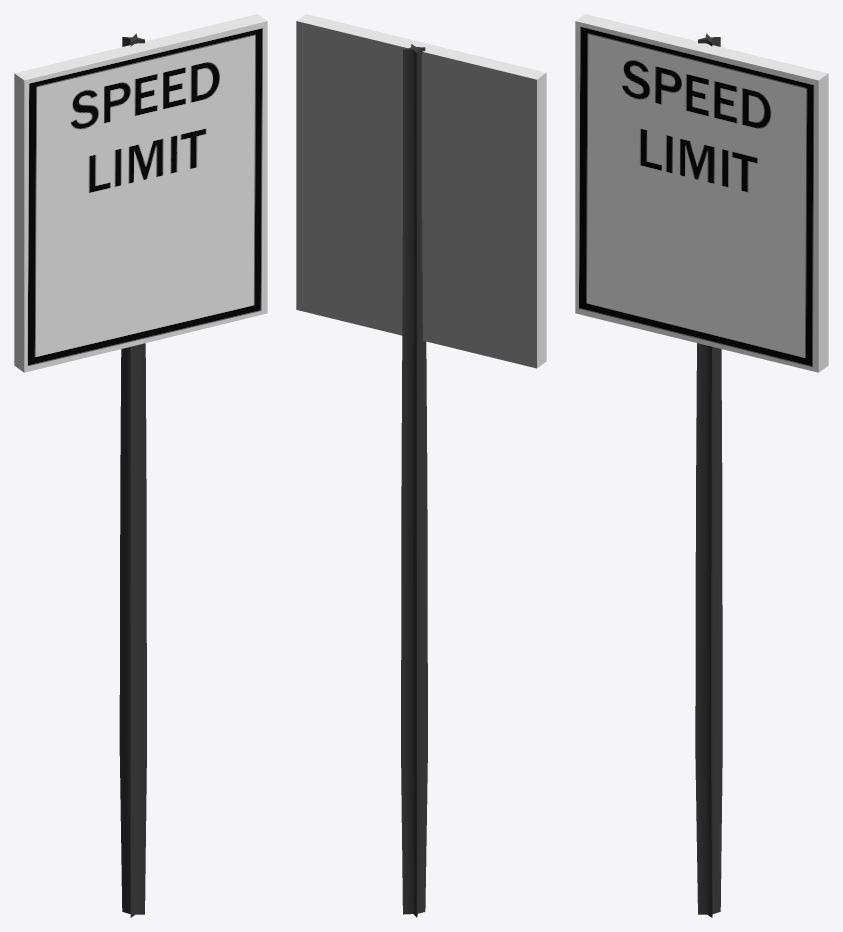
Rendered from SpeedLimitSignAsset.fbx.
3 views of the same model, side by side, from view 1: azimuth 30°, elevation 25°; view 2: azimuth 150°, elevation 25°; view 3: azimuth 330°, elevation 25° (orthographic).
Visible parts, largest first — view 1: Speedlimit1; view 2: Speedlimit1; view 3: Speedlimit1.
Boxes of the visible parts, x1=… form: Speedlimit1: x1=14, y1=14, x2=267, y2=917; Speedlimit1: x1=296, y1=14, x2=546, y2=917; Speedlimit1: x1=575, y1=14, x2=828, y2=917.
Size of the model in its own units: 69.47 by 239 by 8.9.
